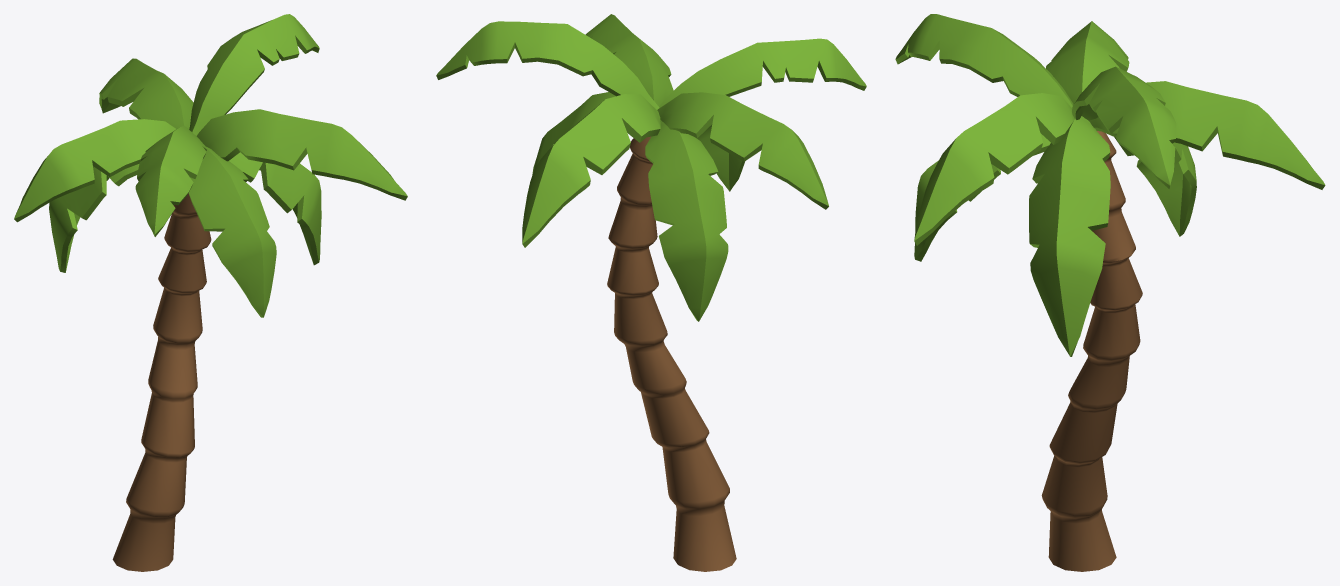
The model's file is palmTree.glb.
The picture shows the model from 3 angles, left to right: view 1: azimuth 30°, elevation 25°; view 2: azimuth 150°, elevation 25°; view 3: azimuth 270°, elevation 25°; orthographic projection. The views are drawn at different scales.
Visible parts, largest first — view 1: Environment_PalmTree_1; view 2: Environment_PalmTree_1; view 3: Environment_PalmTree_1.
Part boxes in pixels (bbox=[...]): Environment_PalmTree_1: bbox=[14, 14, 407, 571]; Environment_PalmTree_1: bbox=[436, 14, 866, 571]; Environment_PalmTree_1: bbox=[895, 14, 1325, 571].
Bounding box in the file's own units: 3.52 × 4.84 × 3.4.
1 material, 1 textured.
